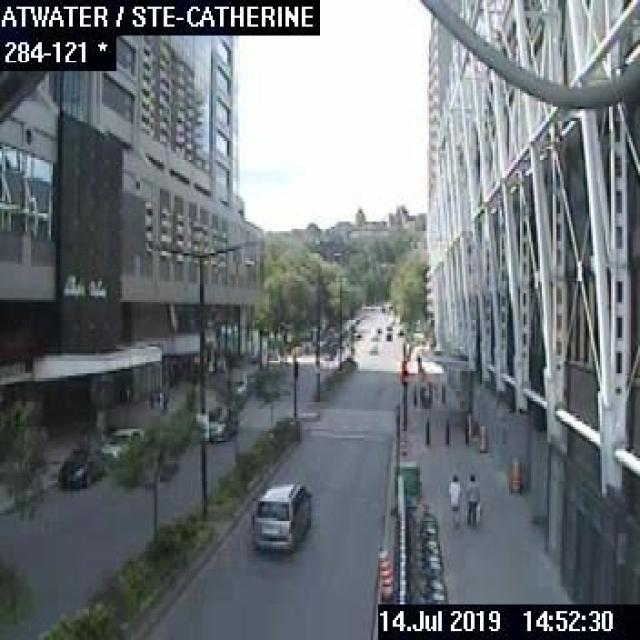construction: (374, 544, 394, 598), (506, 456, 520, 494), (476, 424, 486, 452)
pedestrian: (444, 471, 462, 529), (463, 472, 480, 528)
vehicle: (247, 481, 310, 549), (53, 439, 101, 487), (99, 425, 145, 457), (201, 405, 236, 439), (367, 342, 376, 354), (384, 330, 391, 340), (384, 322, 391, 328)
